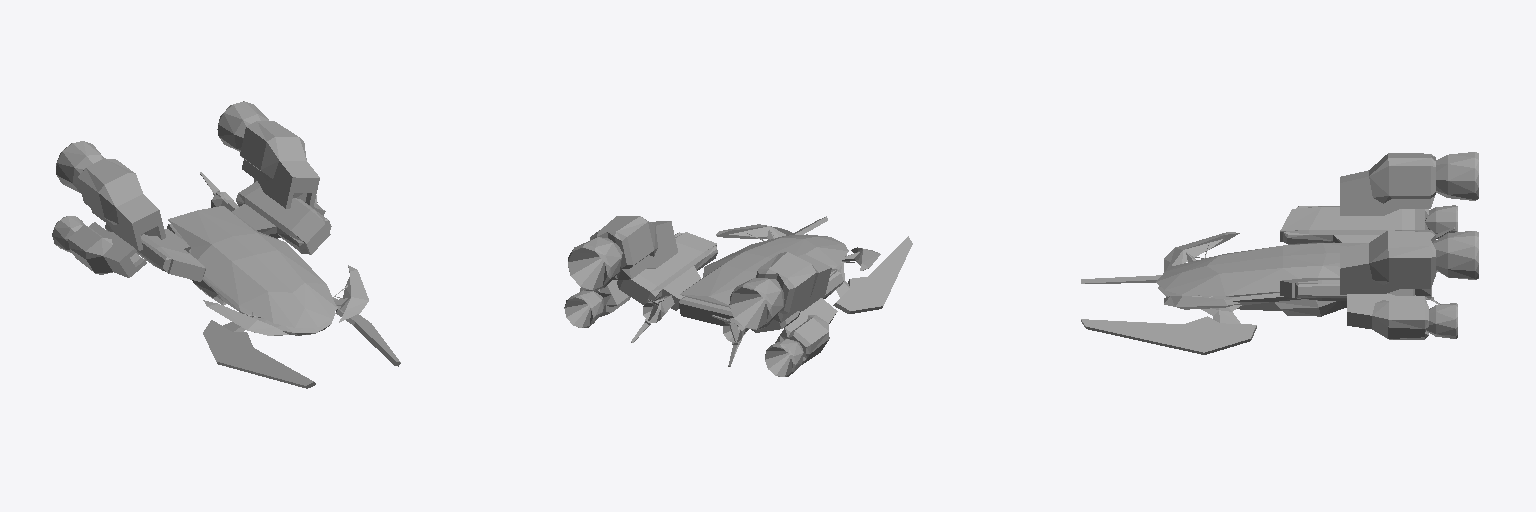
File: heel.obj
3 views of the same model, side by side, from view 1: azimuth 30°, elevation 25°; view 2: azimuth 150°, elevation 25°; view 3: azimuth 270°, elevation 25° (orthographic).
Visible parts, largest first — view 1: Low_Heel_Plane.004; view 2: Low_Heel_Plane.004; view 3: Low_Heel_Plane.004.
Part boxes in pixels (x1,y1,x2,y2): Low_Heel_Plane.004: (52, 101, 400, 388); Low_Heel_Plane.004: (564, 216, 912, 376); Low_Heel_Plane.004: (1081, 152, 1478, 354).
Size of the model in its own units: 1.29 by 0.6626 by 1.92.